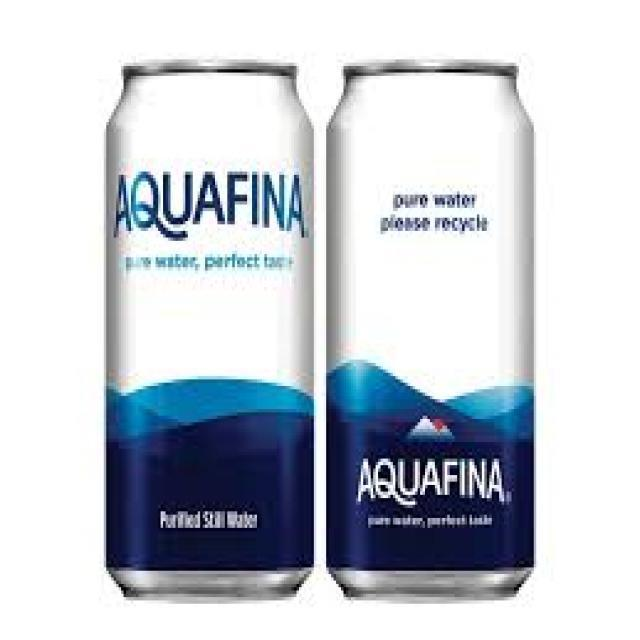recyclable: (326, 60, 535, 604), (104, 64, 316, 600)
